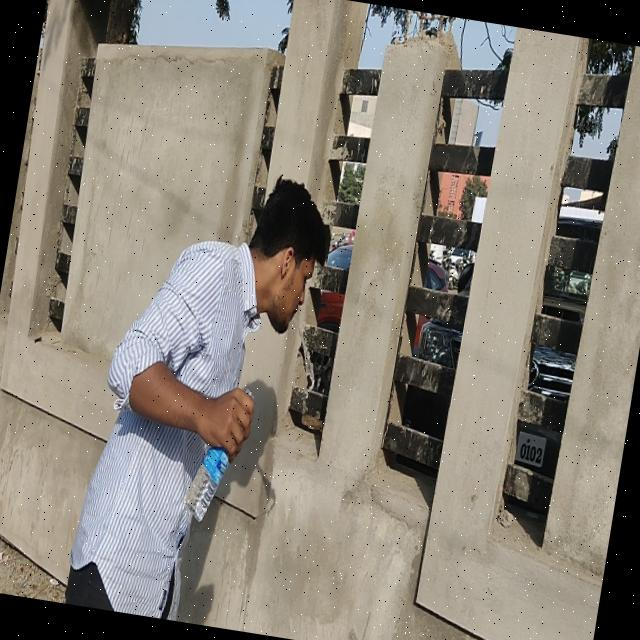spit: (255, 180, 332, 422)
